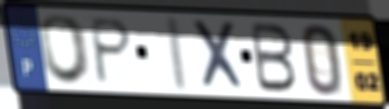0: (300, 22, 344, 98)
B: (249, 21, 299, 95)
I: (167, 14, 191, 94)
O: (37, 13, 95, 87)
P: (90, 16, 135, 86)
X: (189, 19, 250, 93)
